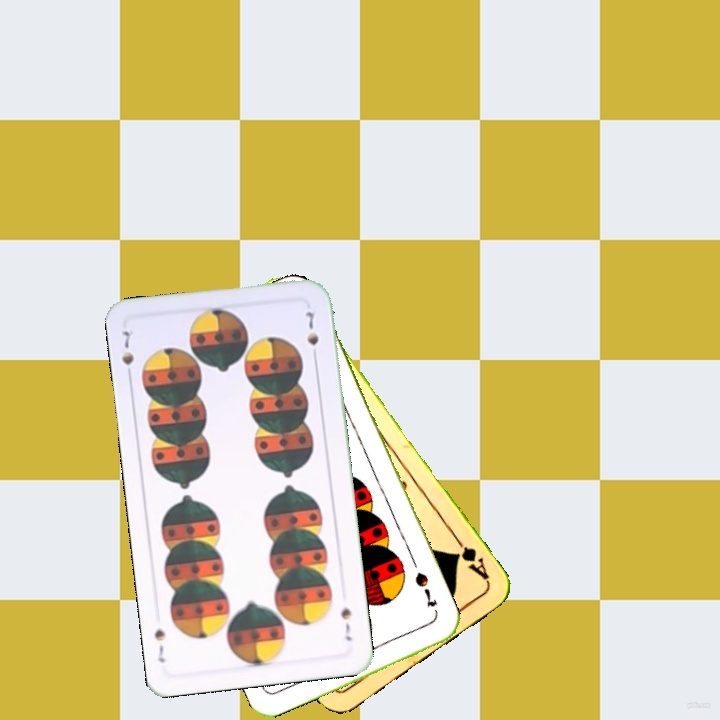GA: (450, 533, 492, 584)
S7: (410, 568, 441, 610), (117, 326, 137, 368), (337, 603, 355, 643)
